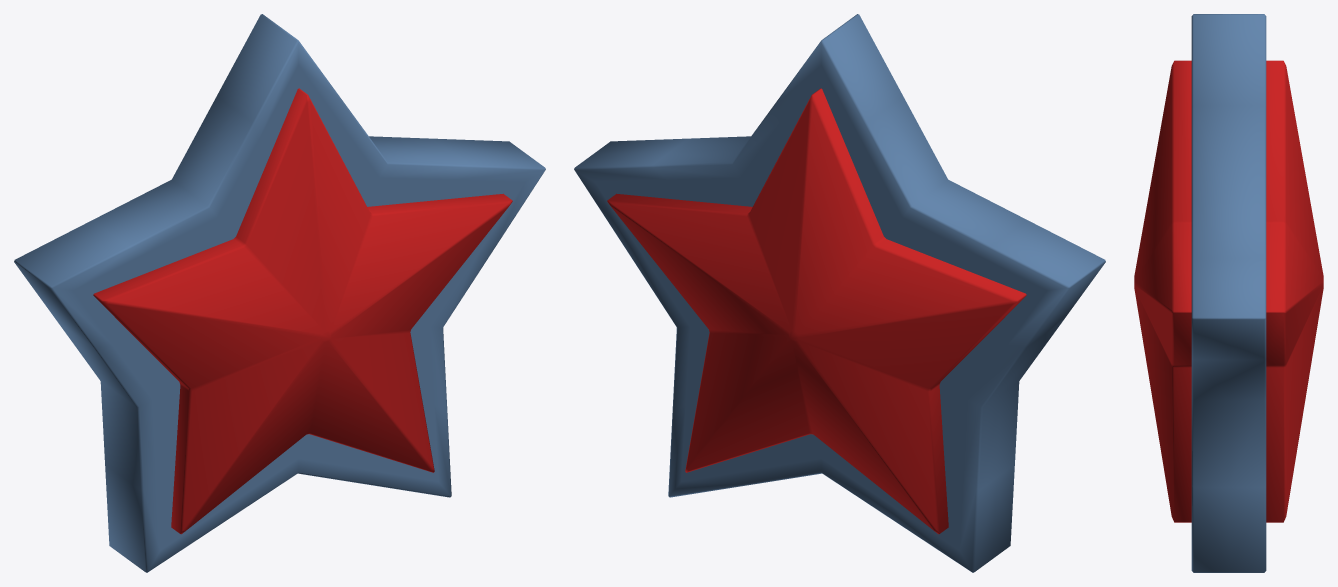
Rendered from star.fbx.
3 views of the same model, side by side, from view 1: azimuth 30°, elevation 25°; view 2: azimuth 150°, elevation 25°; view 3: azimuth 270°, elevation 25° (orthographic).
Parts seen in each view (by area): view 1: Star; view 2: Star; view 3: Star.
Part boxes in pixels (bbox=[...]): Star: bbox=[14, 14, 545, 572]; Star: bbox=[574, 14, 1105, 572]; Star: bbox=[1134, 14, 1323, 572].
Bounding box in the file's own units: 580 × 553 × 195.
